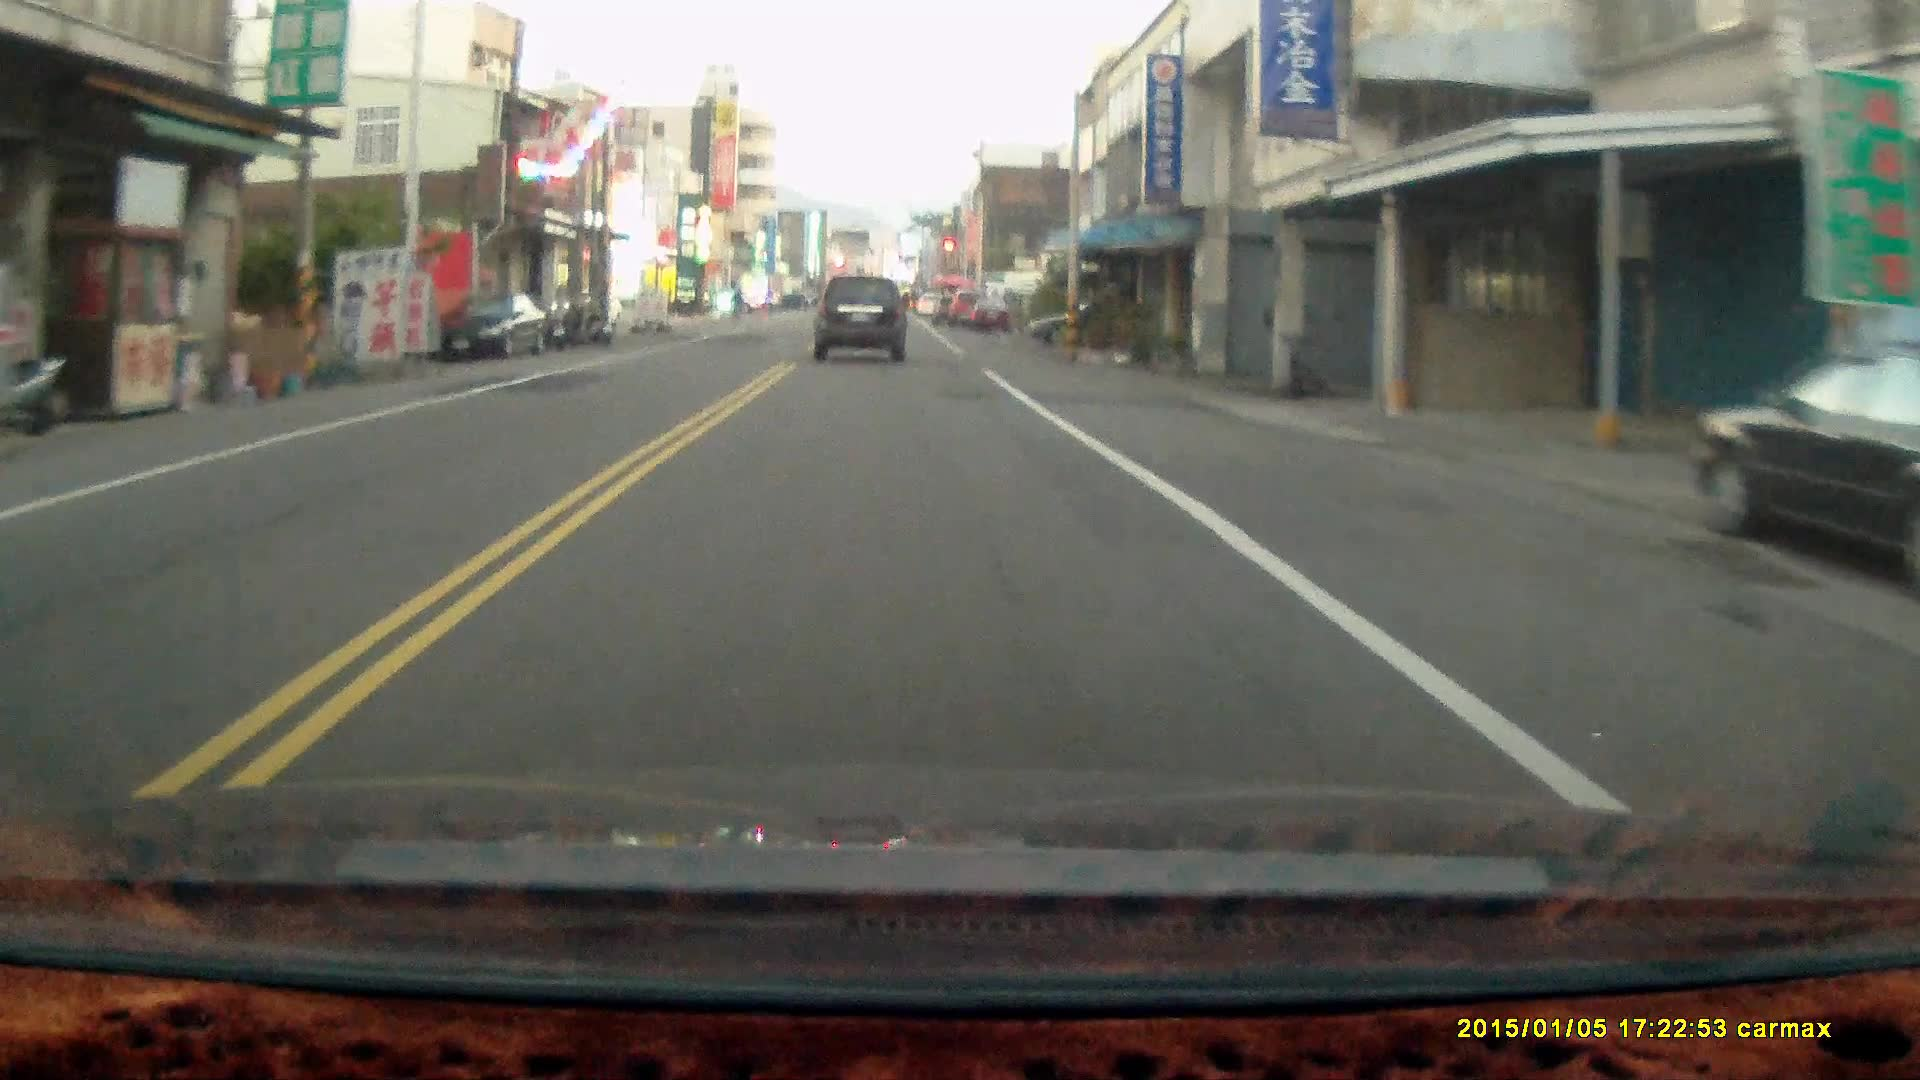vehicle: (1691, 345, 1920, 589), (433, 290, 551, 364), (815, 273, 911, 361)
